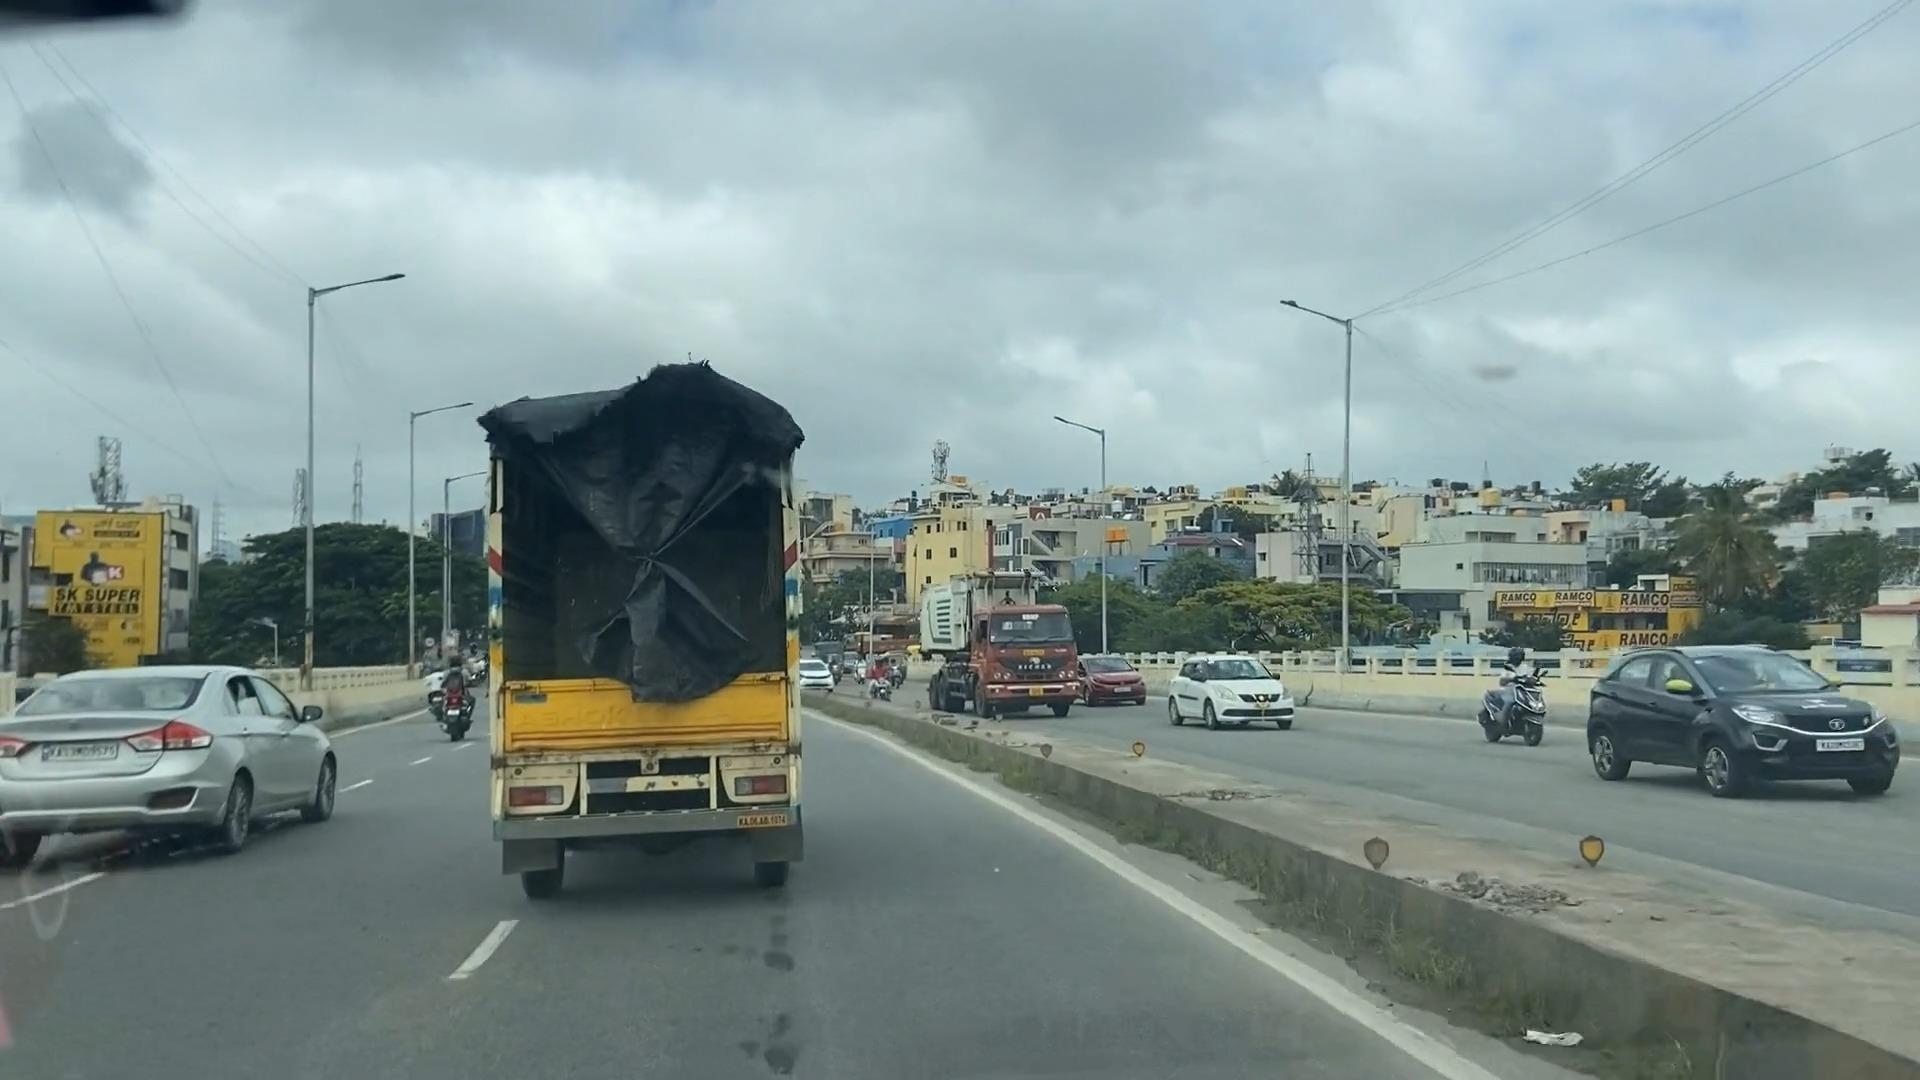HMV: (483, 339, 812, 905), (902, 558, 1089, 732)
